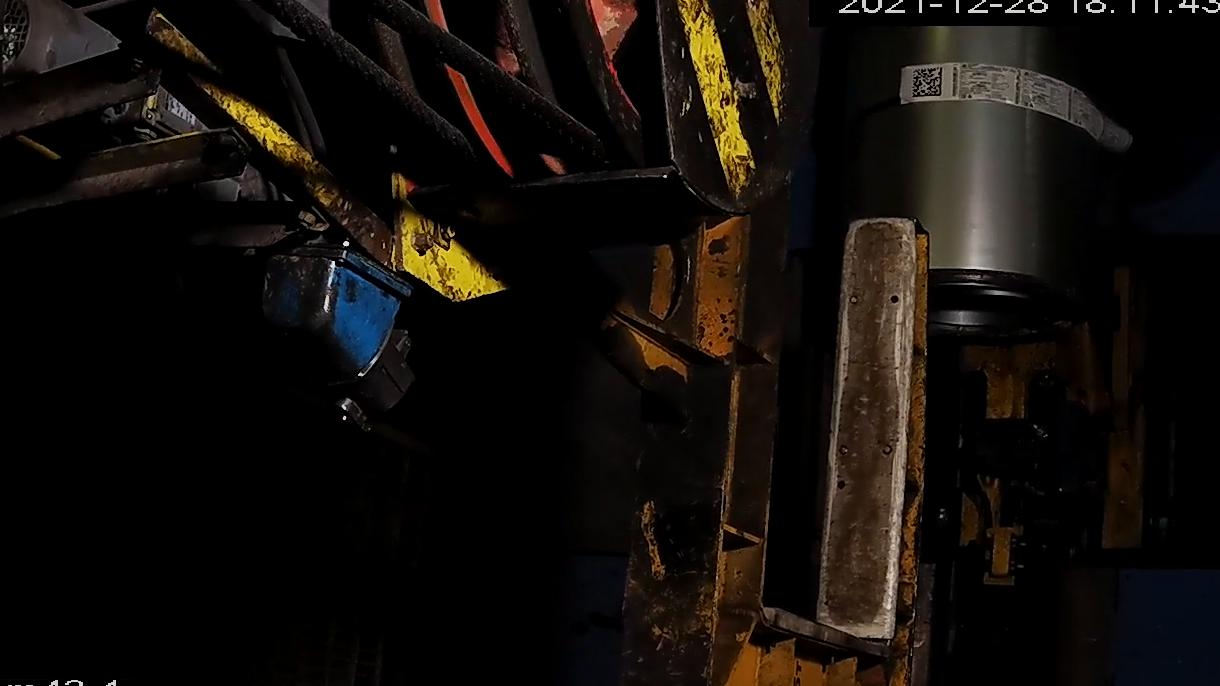data matrix: (910, 65, 946, 102)
